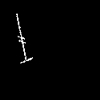treble_crochet: (16, 14, 31, 62)
